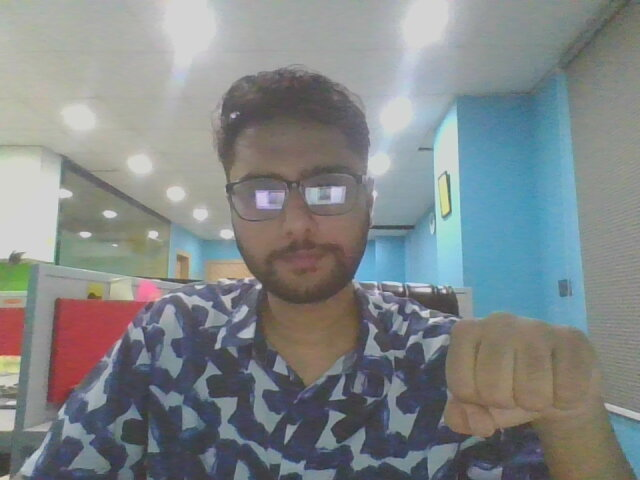yes: (436, 307, 629, 466)
